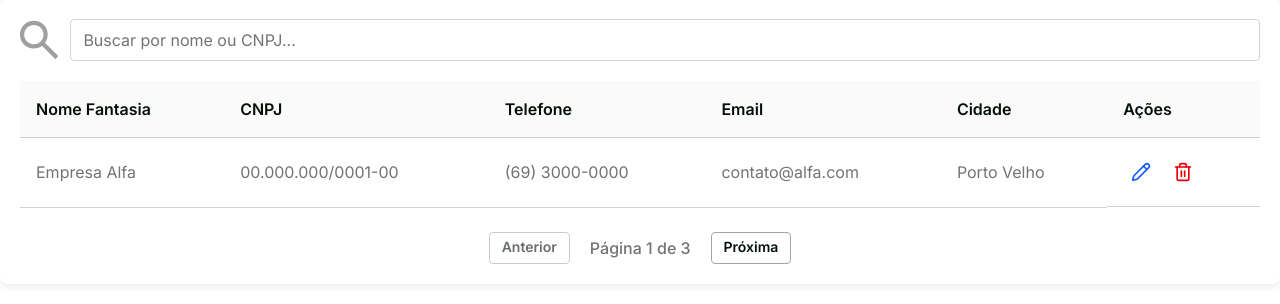
it: TabelaRegistros › reinicia a paginação ao buscar
Expected: the table is shown, [20, 81, 1260, 208]
Click the button "Próxima" at (751, 248), box [711, 232, 791, 264]
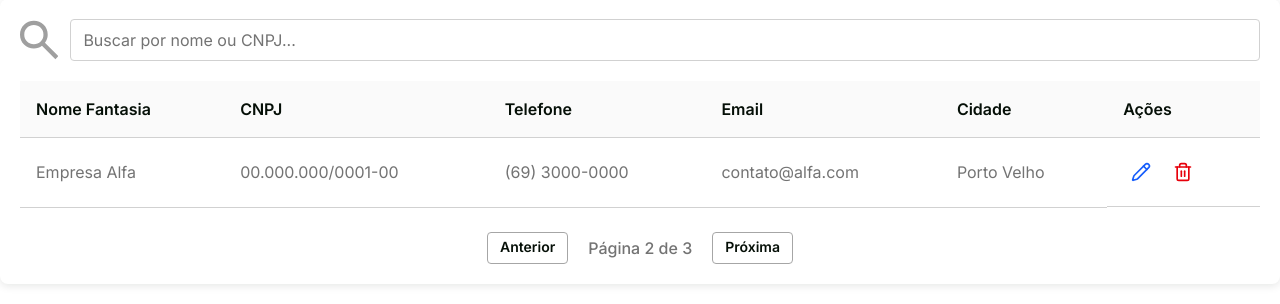
Now the text "Página 2 de 3" is shown, box [588, 236, 692, 260]
Type "a" into the field named "Buscar empresa por nome ou CNPJ" at (665, 40), box [70, 19, 1260, 61]
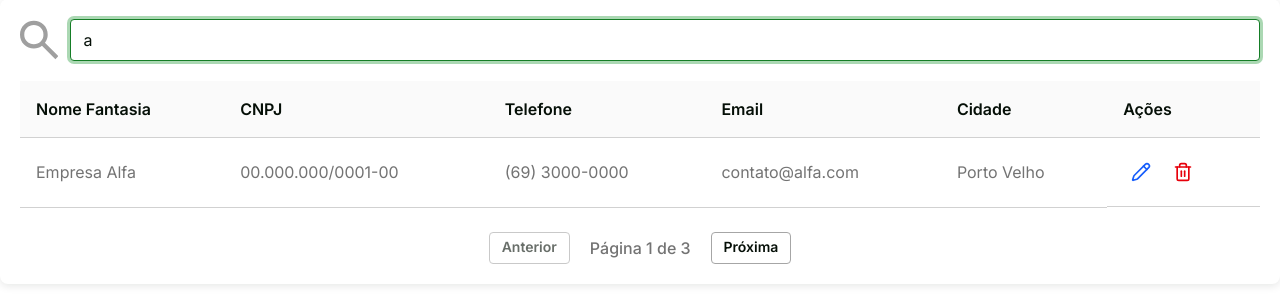
Now the text "Página 1 de 3" is shown, box [590, 236, 691, 260]
